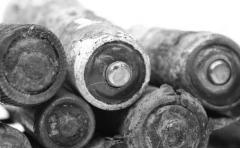electronic: (2, 1, 153, 114)
